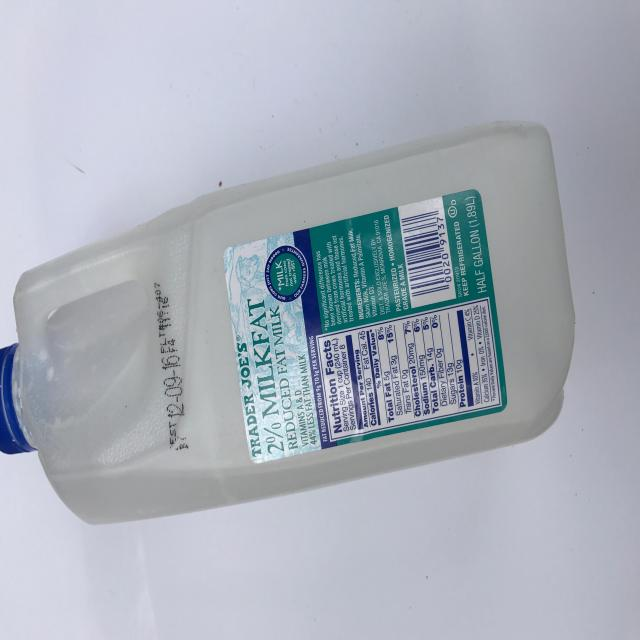plastic: (0, 119, 576, 525)
